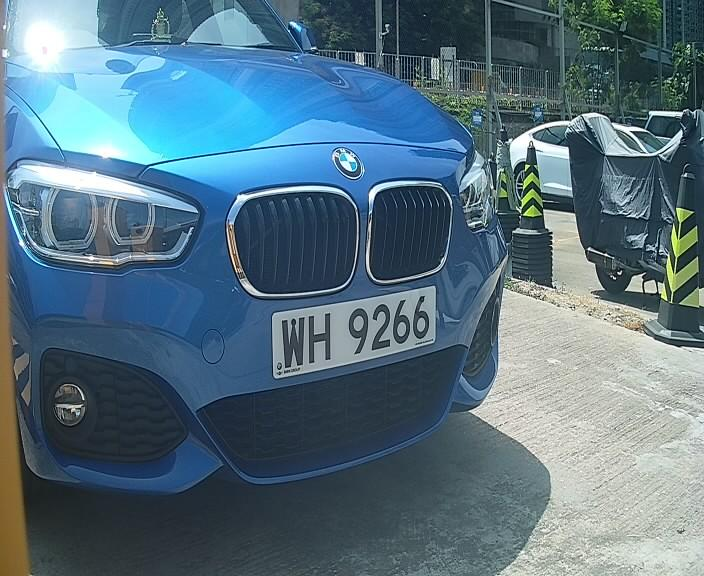License Plate: (277, 276, 444, 376)
